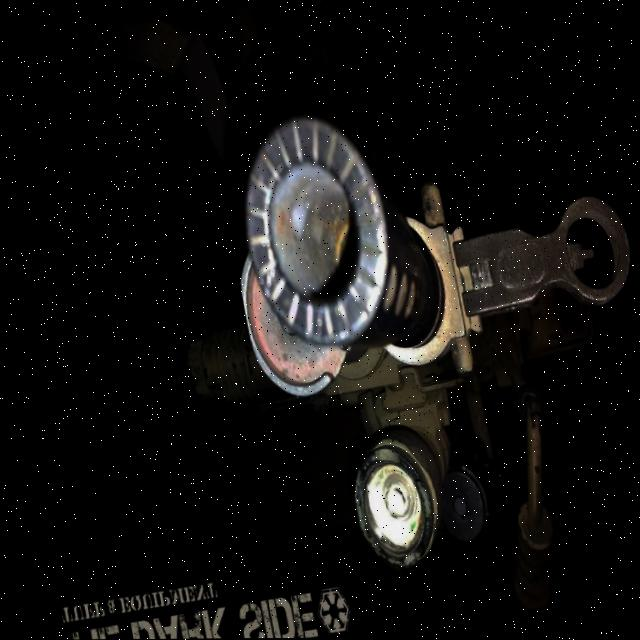firearm: (135, 62, 640, 639)
